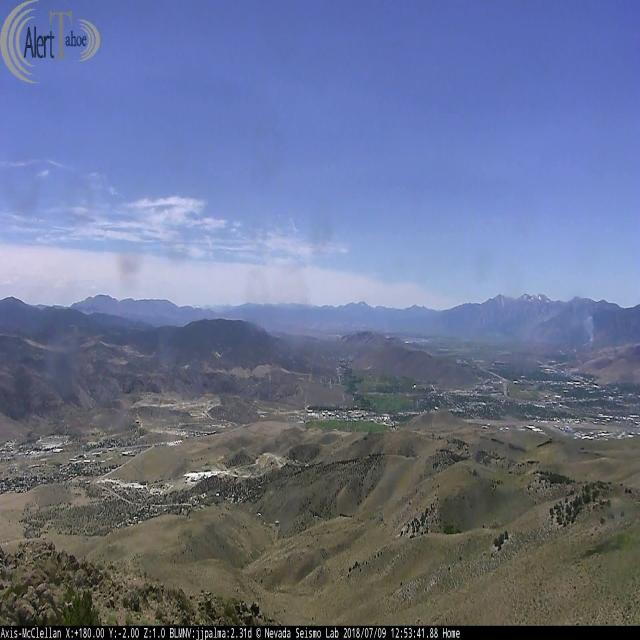smoke: (585, 314, 594, 346)
